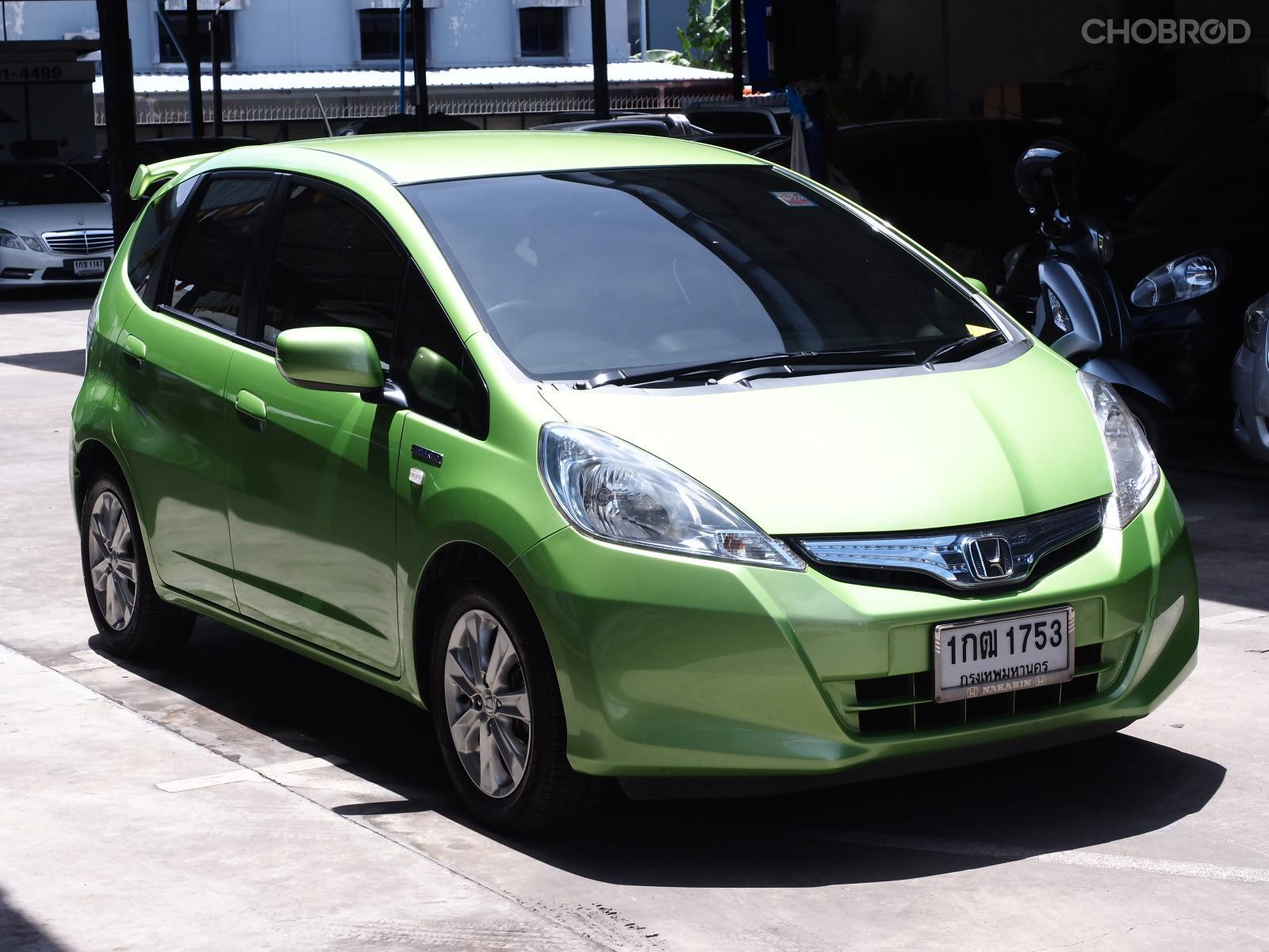license-plate: (915, 598, 1093, 709)
